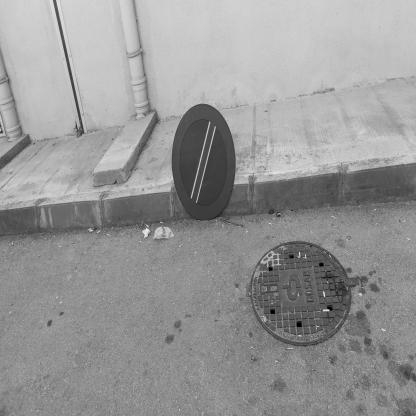No Waiting: (173, 104, 237, 222)
